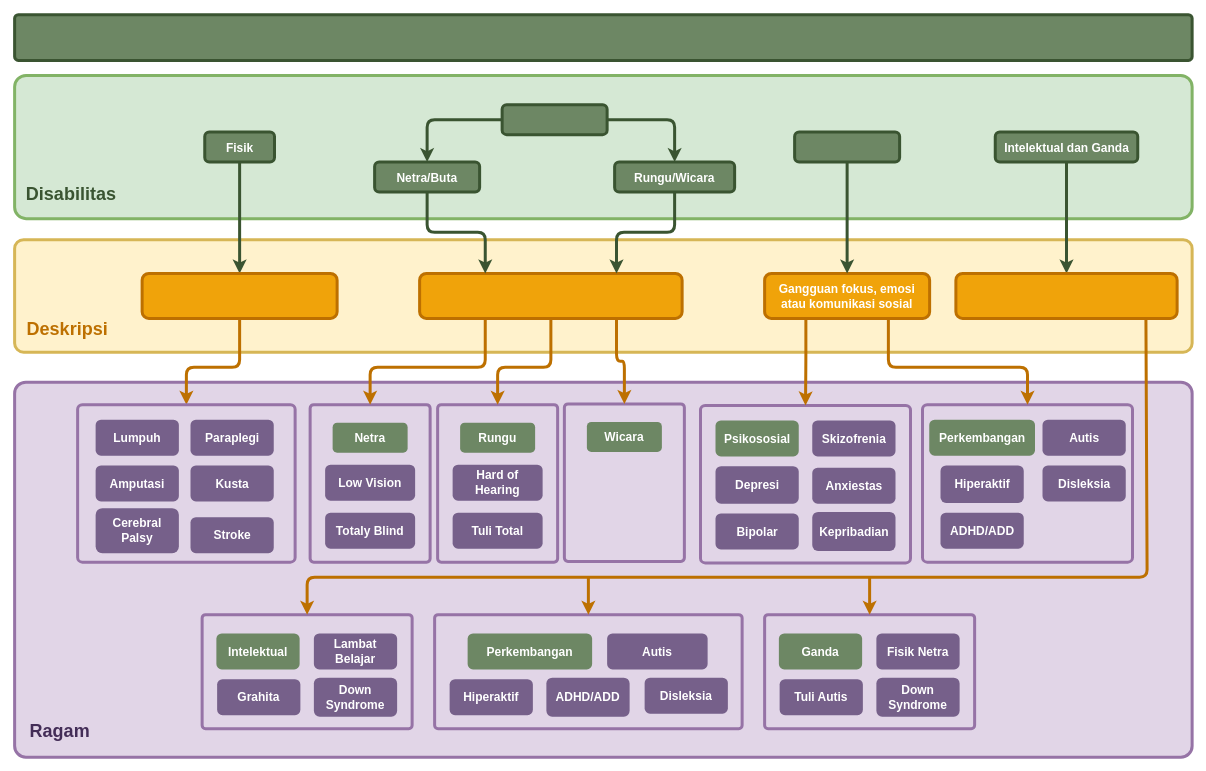
The diagram is 1206 pixels wide and 771 high, and some of its shapes have lost their labels. The shapes that lost their labels are listed below. From the top down, each one's centre as x and y in pixels, then its label:
At (x=603, y=37): "INOVASI UNTUK DISABILITAS - UNIVERSITAS TEKNOLOGI BANDUNG".
At (x=554, y=119): "Sensorik".
At (x=847, y=146): "Mental/Jiwa".
At (x=239, y=296): "Mobilitas terbatas".
At (x=550, y=296): "Kesulitan berinteraksi dengan lingkungan".
At (x=1066, y=296): "Keterlambatan belajar, kesulitan memahami informasi kompleks".
